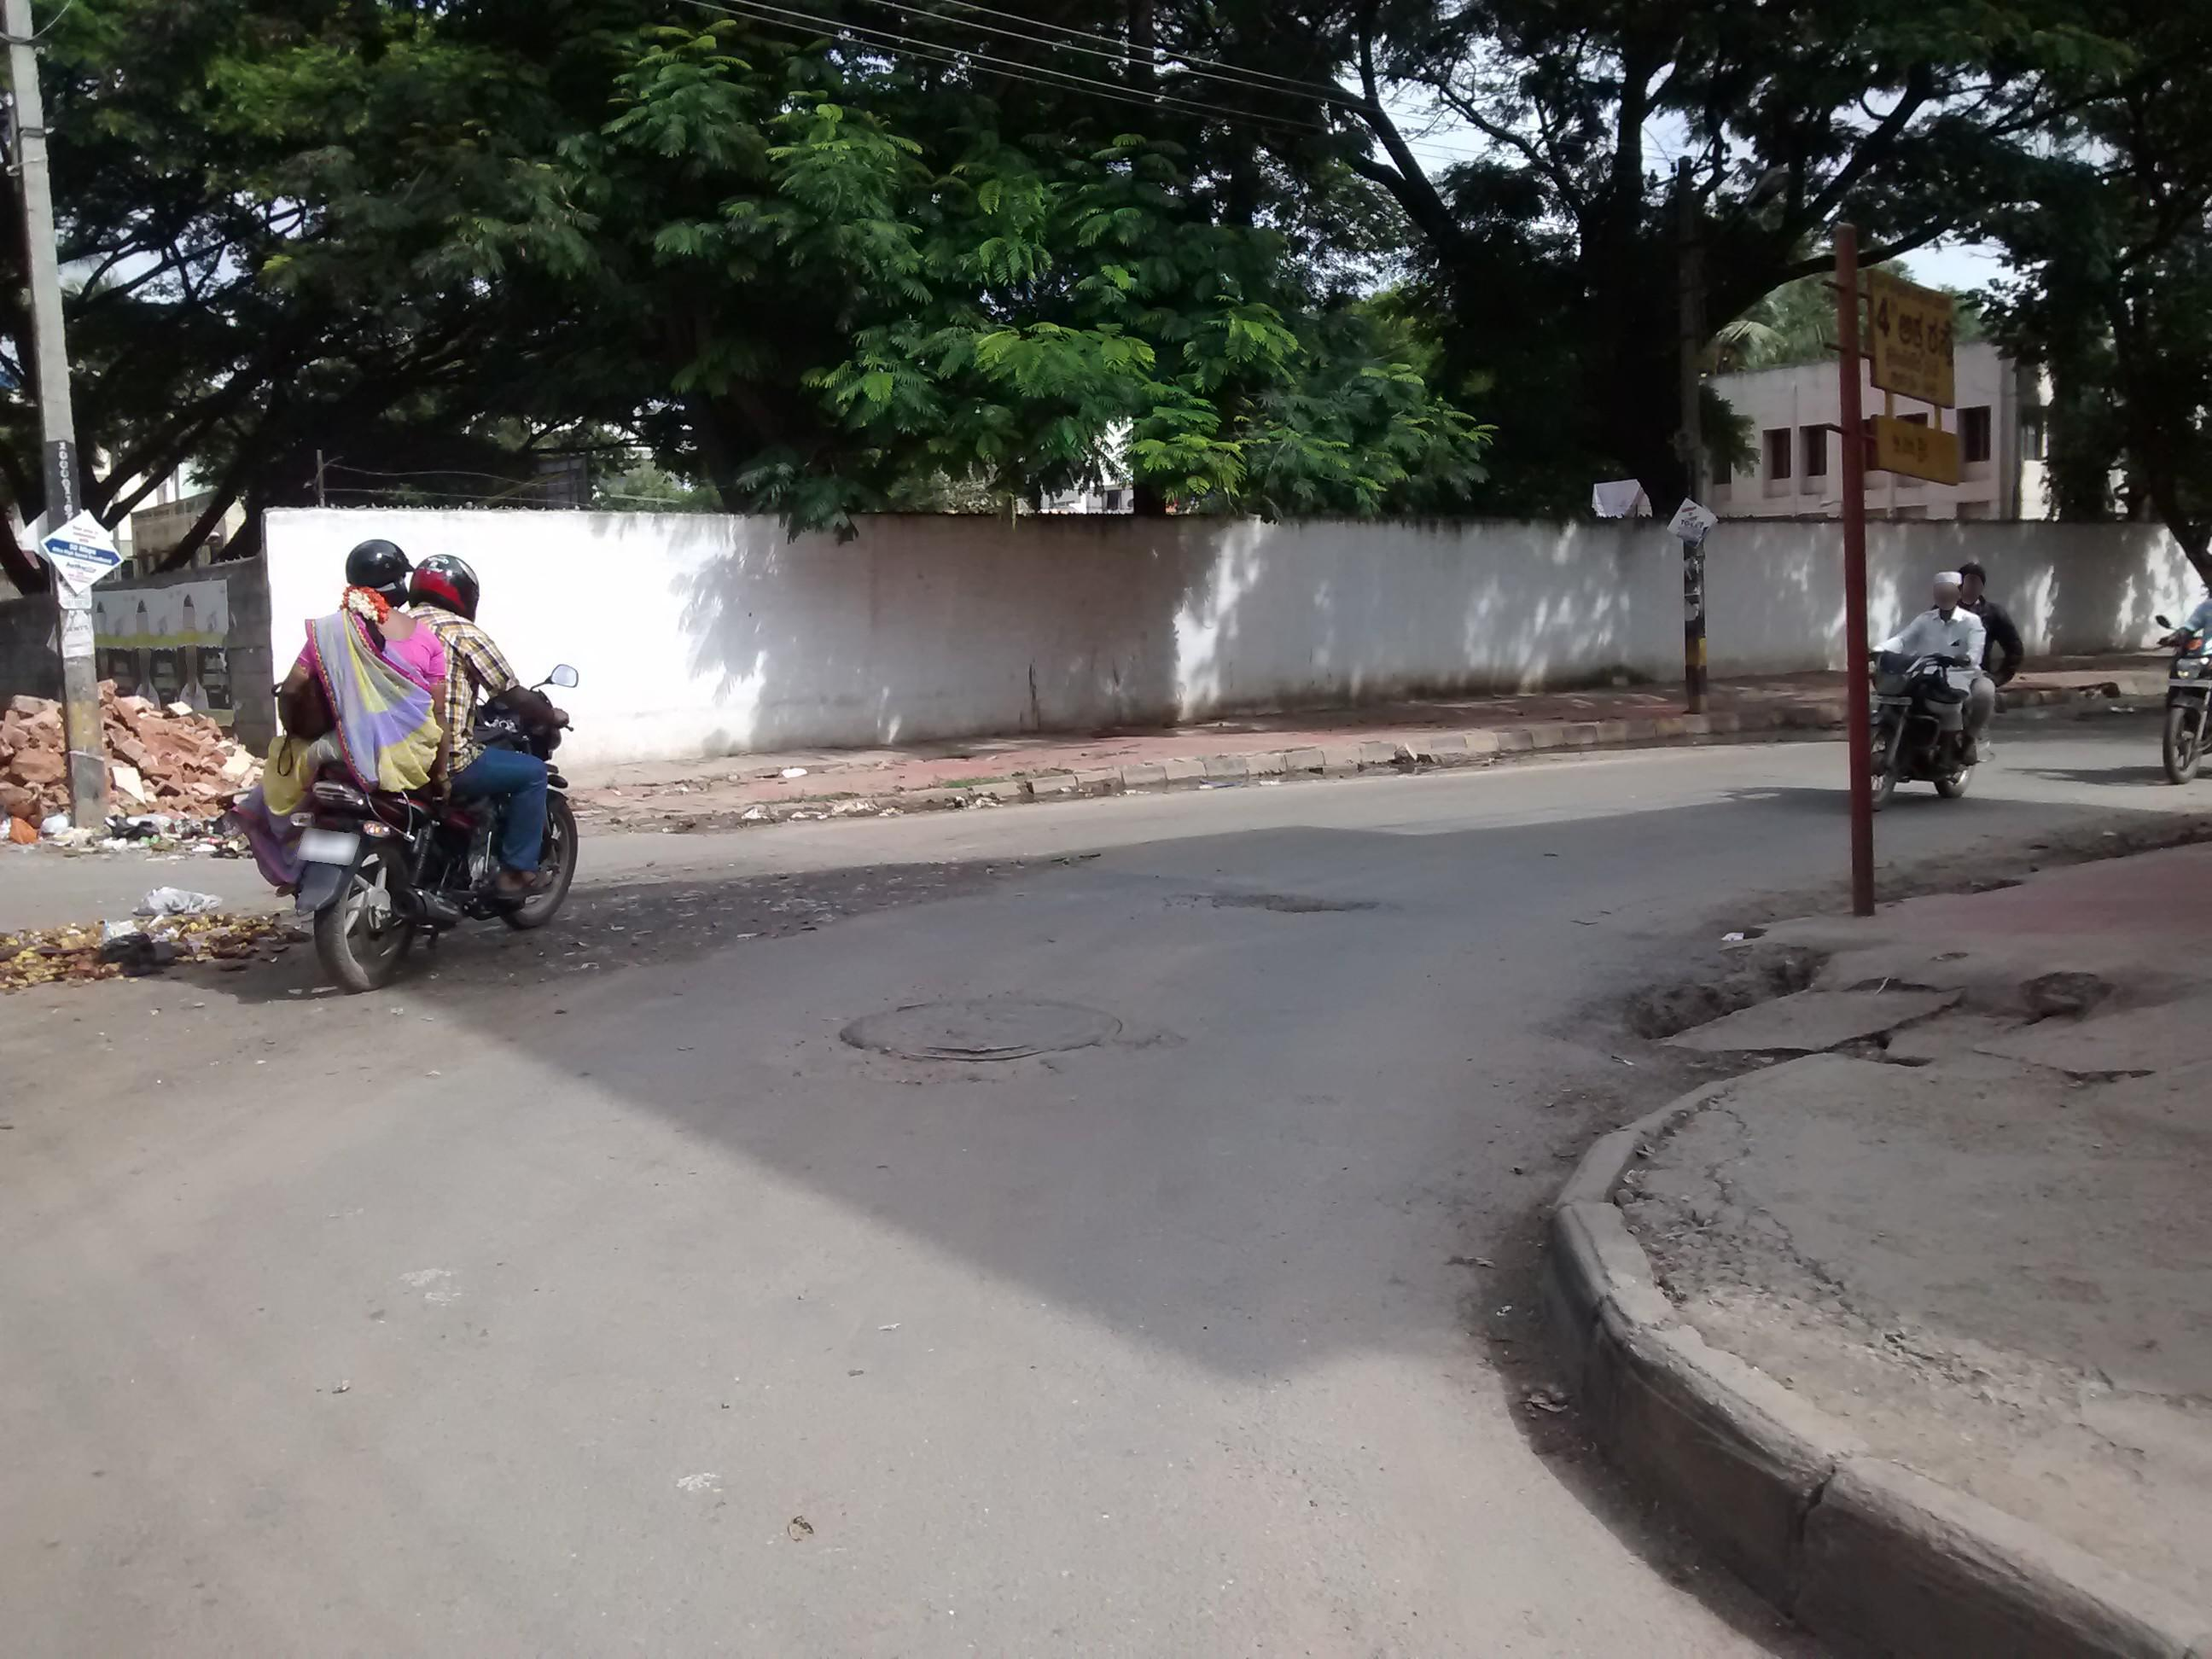vinyl banner: (59, 570, 242, 732)
